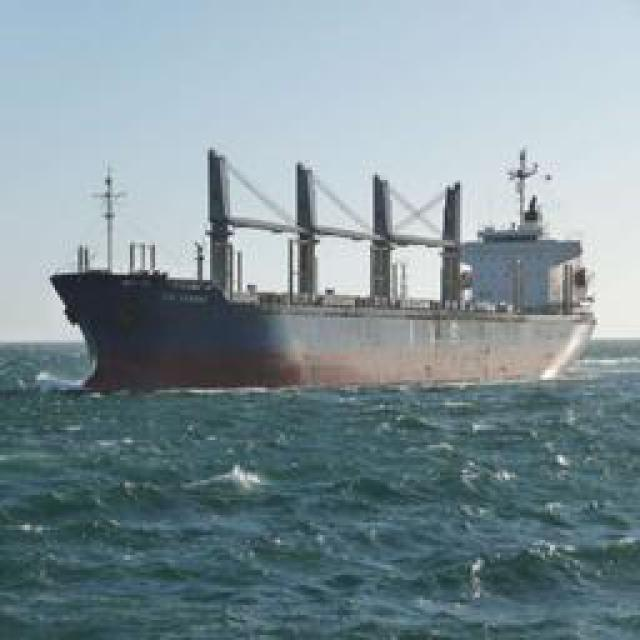Ship: (51, 141, 604, 389)
